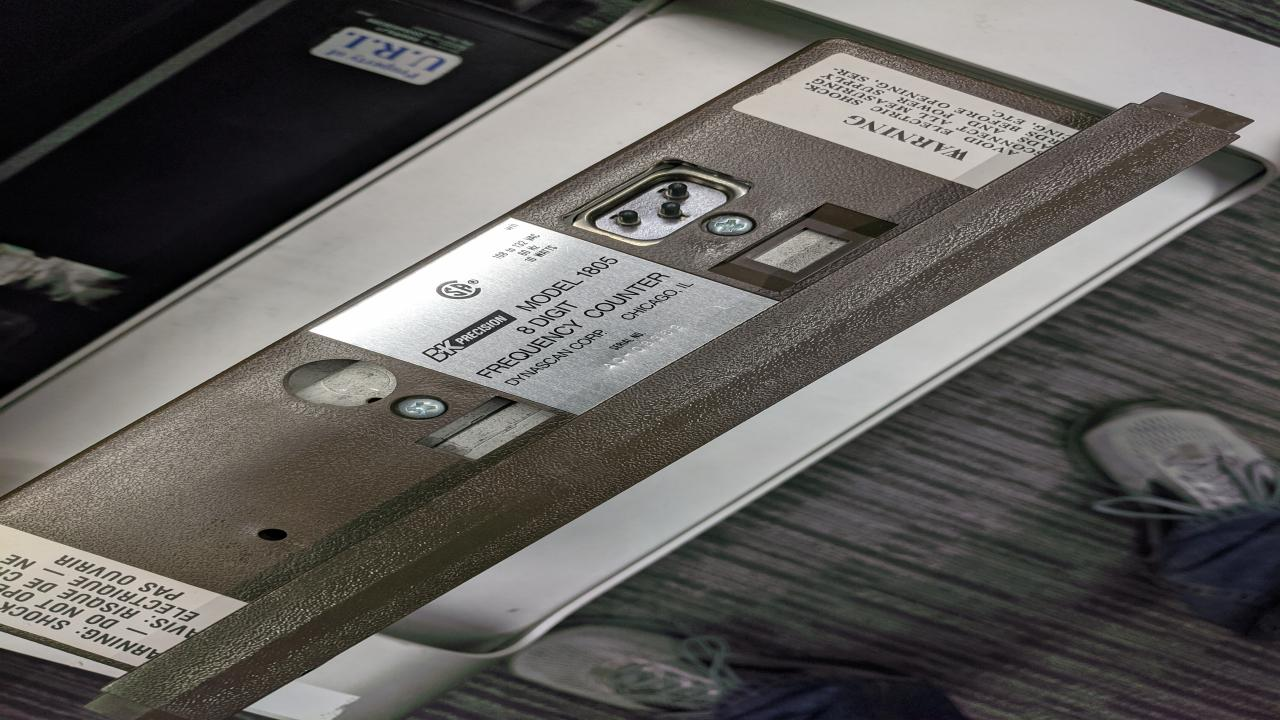CRS: (705, 214, 761, 238), (391, 396, 447, 419)
